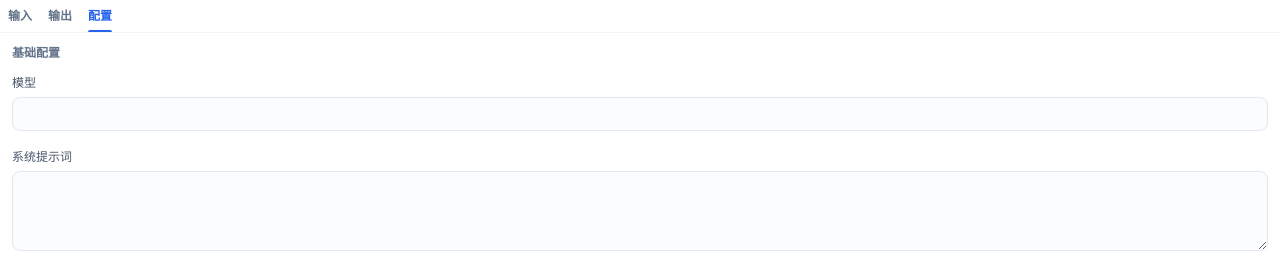
Test: NodeConfigTabs › LLM JSON 输出页只展示 JSON 主输出字段
Click the tab "输出": (60, 20) top-left (48, 8), bottom-right (72, 32)
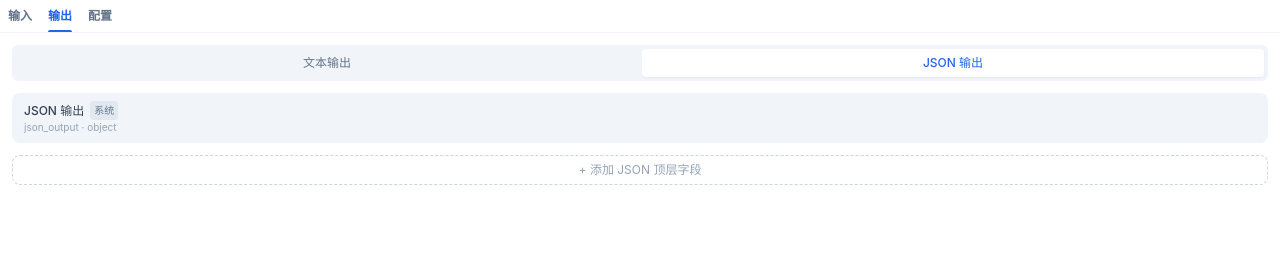
Now the text "json_output · object" is shown, box top-left (24, 121), bottom-right (116, 133)
